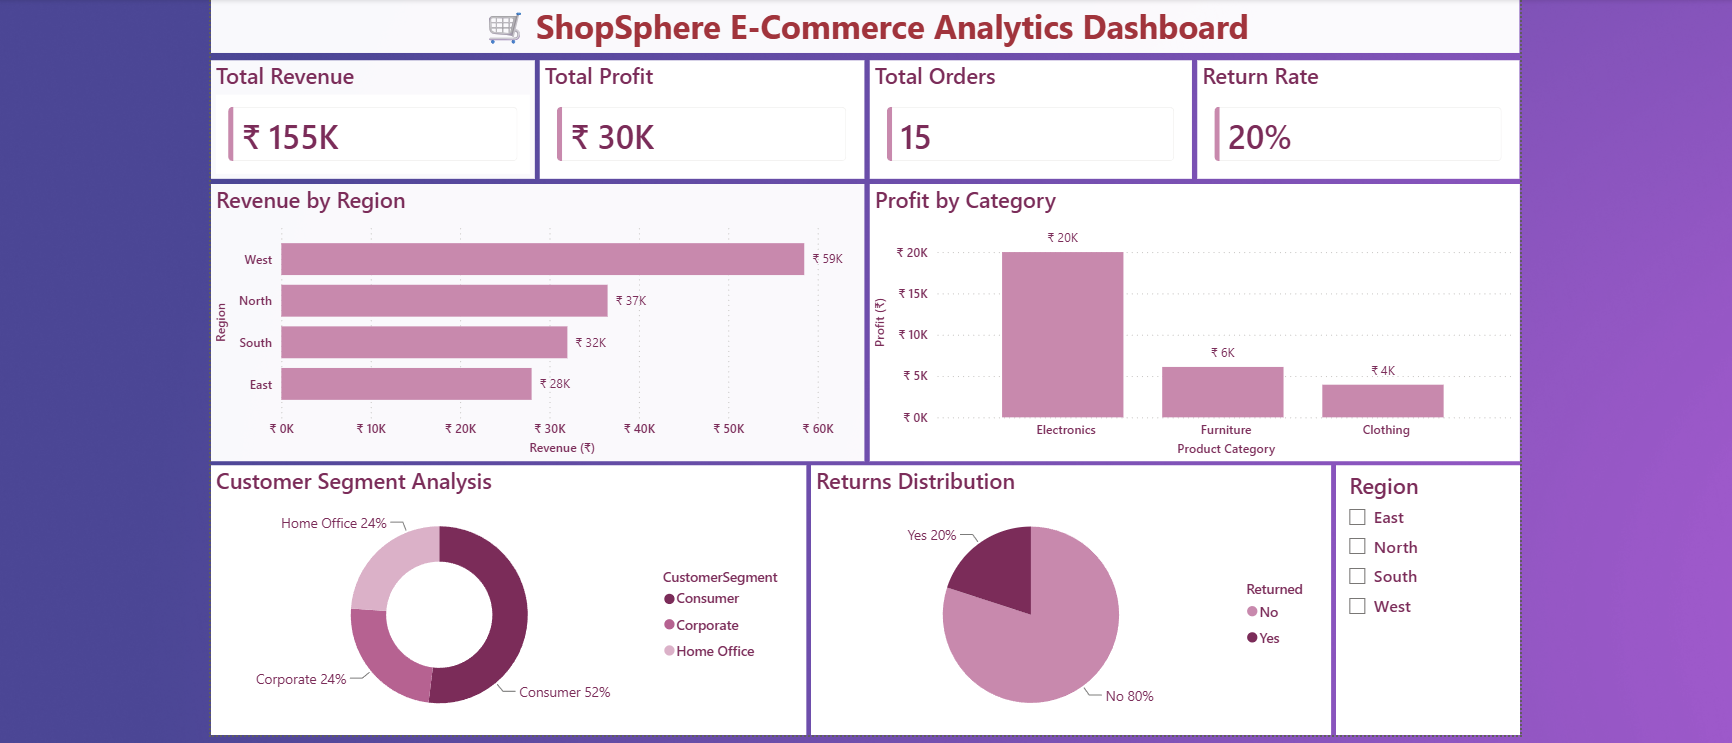

Layout of this report page (visuals, bound fields, positions):
{"tool":"powerbi","page":{"name":"ShopSphere E-Commerce Analytics Dashboard","canvas":[1280,720],"ordinal":0},"visuals":[{"type":"textbox","box":[0,0,1280.3,52.6],"z":0},{"type":"cardVisual","title":"Total Revenue","fields":{"Data":["Sum(ecommerce_clean.Sales)"]},"box":[0,59.9,317,116],"z":1000},{"type":"cardVisual","title":"Total Profit","fields":{"Data":["Sum(ecommerce_clean.Profit)"]},"box":[321.6,59.9,317.9,116.2],"z":2000},{"type":"cardVisual","title":"Total Orders","fields":{"Data":["CountNonNull(ecommerce_clean.OrderID)"]},"box":[644.4,59.9,315.5,116.2],"z":3000},{"type":"cardVisual","title":"Return Rate","fields":{"Data":["ecommerce_clean.Return Rate"]},"box":[964.8,59.9,315.5,116.2],"z":4000},{"type":"clusteredBarChart","title":"Revenue by Region","fields":{"Category":["ecommerce_clean.Region"],"Y":["Sum(ecommerce_clean.Sales)"]},"box":[0,181,639.5,271],"z":5000},{"type":"clusteredColumnChart","title":"Profit by Category","fields":{"Category":["ecommerce_clean.Category"],"Y":["Sum(ecommerce_clean.Profit)"]},"box":[644.4,181,635.9,271.5],"z":6000},{"type":"donutChart","title":"Customer Segment Analysis","fields":{"Category":["ecommerce_clean.CustomerSegment"],"Y":["Sum(ecommerce_clean.Sales)"]},"box":[0,456.1,582,264.1],"z":7000},{"type":"pieChart","title":"Returns Distribution","fields":{"Category":["ecommerce_clean.Returned"],"Y":["CountNonNull(ecommerce_clean.OrderID)"]},"box":[587,456.1,508.7,264.1],"z":8000},{"type":"slicer","fields":{"Values":["ecommerce_clean.Region"]},"box":[1100.5,456.1,179.8,264.1],"z":9000}]}

Visuals, with their boxes in screenshot pixels (x1, y1, x2, y2):
textbox: (left=207, top=0, right=1513, bottom=49)
"Total Revenue" cardVisual: (left=207, top=57, right=531, bottom=175)
"Total Profit" cardVisual: (left=535, top=57, right=859, bottom=175)
"Total Orders" cardVisual: (left=864, top=57, right=1186, bottom=175)
"Return Rate" cardVisual: (left=1191, top=57, right=1513, bottom=175)
"Revenue by Region" clusteredBarChart: (left=207, top=180, right=859, bottom=456)
"Profit by Category" clusteredColumnChart: (left=864, top=180, right=1513, bottom=457)
"Customer Segment Analysis" donutChart: (left=207, top=460, right=801, bottom=730)
"Returns Distribution" pieChart: (left=806, top=460, right=1324, bottom=730)
slicer - ecommerce_clean.Region: (left=1329, top=460, right=1513, bottom=730)
